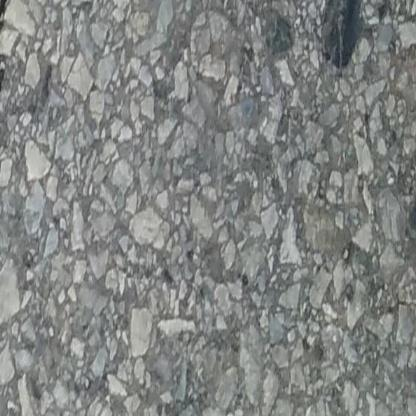Cracks: (0, 0, 28, 172)
